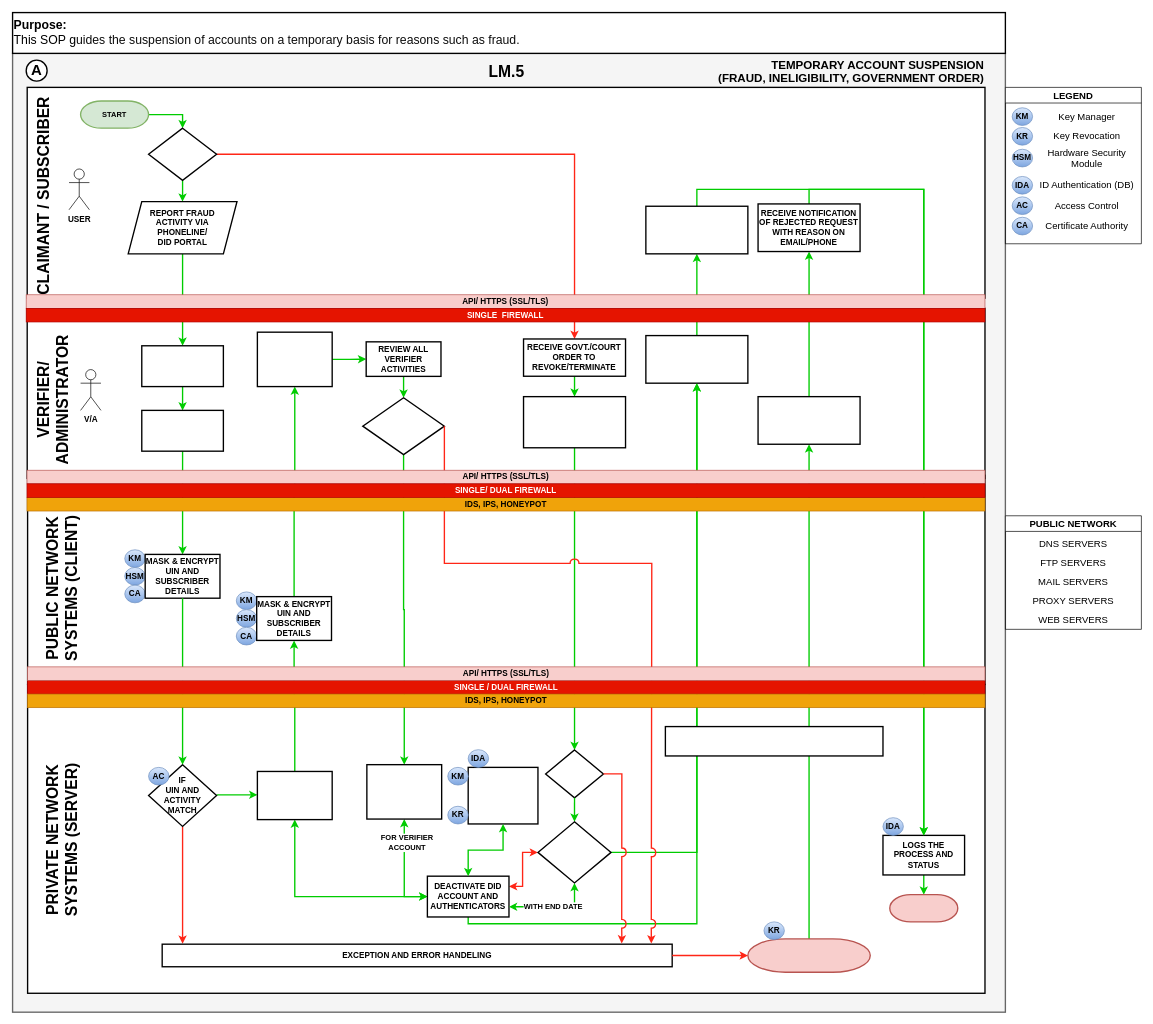
Image size: 1153x1024. Some labels were removed from this diagram. Each missing label, with the centre of its shape:
END: point 923,908
IF REPORT VALID: point 574,773
IF REPORT WITH END DATE: point 574,852
IF SUBSCRIBER REPORTS: point 182,154
IF VERIFIER ACTIVITY SUSPECIOUS: point 403,426
NOTIFICATION GENERATOR: point 773,741
NOTIFY REPORTING PARTY/AUTHORITY FOR REJECTED REQUEST WITH REASON: point 808,420
RECALL SUBSCRIBER AUTHENTICATION ACCESS FOR THE VERIFIER: point 294,795
RECEIVE DETAILS OF SUBSCRIBER AND SUSPICIOUS ACTIVITY: point 182,366
RECEIVE DID ACOUNT REVOCATION/ TERMINATION SUCCESS NOTIFICATION: point 696,359
RECEIVE NOTIFICATION OF ACCOUNT DEACTIVATION WITH REASON AND END DATE: point 696,229
REMOVE ACCESS FOR THE VERIFIER AND FLAG FOR FRAUD IN DATABASE: point 404,791
REPORT VERIFIER AND ACTIVITY TO LOCAL AUTHORITY: point 294,359
STORE UIN ACCOUNT AND AUTHENTICATOR STATUS: point 502,795
TERMINATE PROCESS: REJECT REQUEST: point 809,955
VALIDATE REPORT AUTHENTICITY BY LIASING WITH GOVERNMENT OFFICIALS: point 574,422
VERIFY ACTIVITY IN DATABASE: point 182,430
